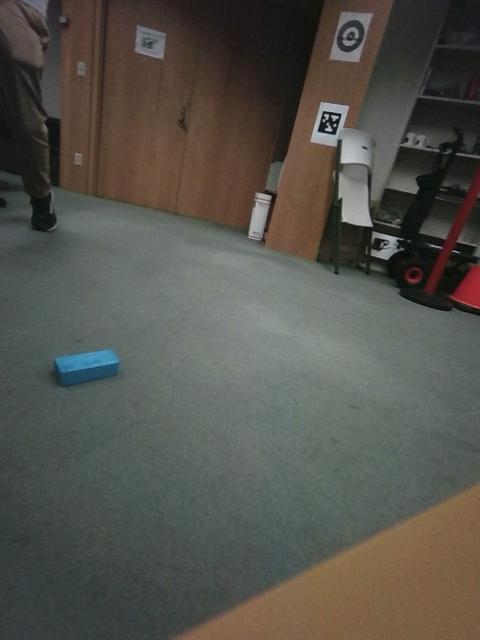block: (34, 348, 121, 401)
